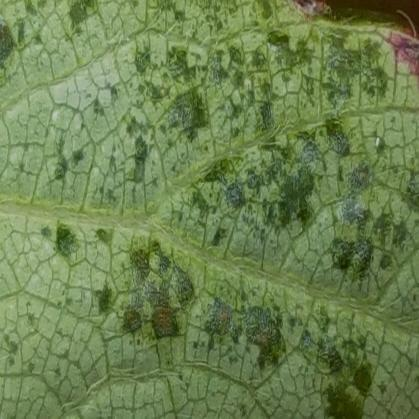Angular Leafspot: (0, 0, 418, 418)
